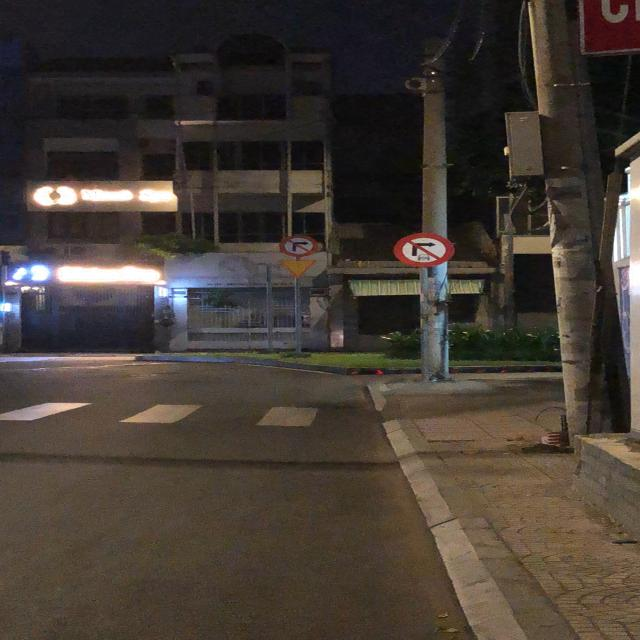Bien bao cam re phai: (277, 234, 319, 257)
Bien bao cam xe o to re phai: (390, 230, 461, 268)
Bien bao giao nhau voi duong uu tien: (278, 258, 318, 280)
